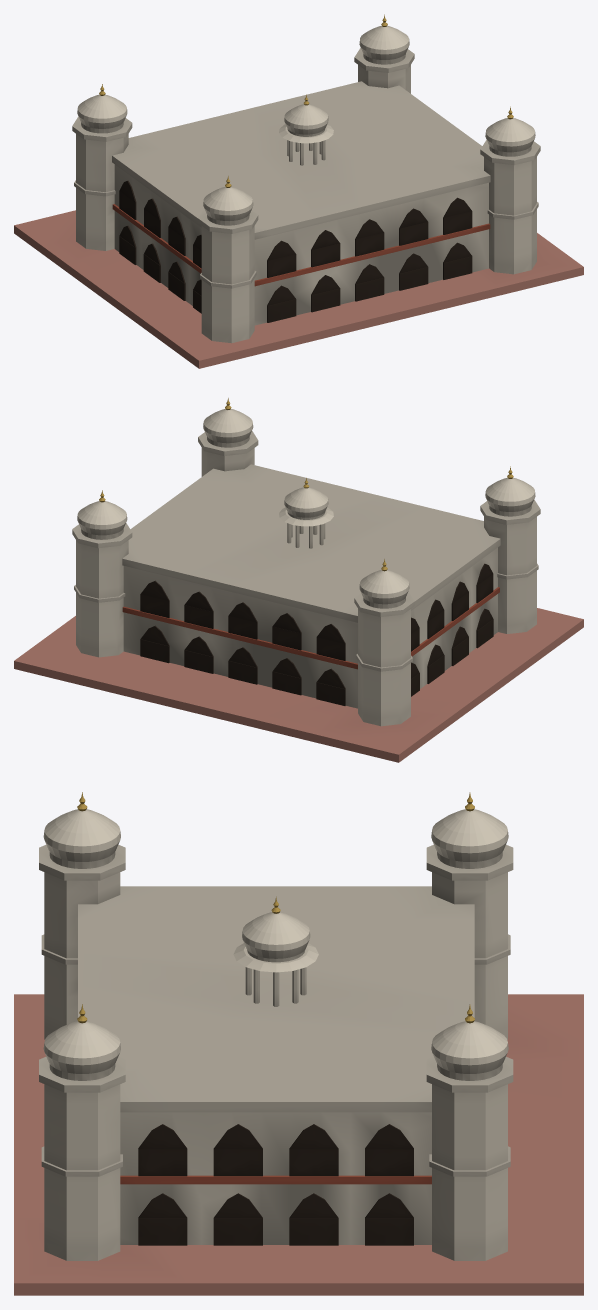
Rendered from mubarak-manzil.glb.
3 views of the same model, one above another, from view 1: azimuth 30°, elevation 25°; view 2: azimuth 150°, elevation 25°; view 3: azimuth 270°, elevation 25° (orthographic). The views are drawn at different scales.
Parts seen in each view (by area): view 1: p0_body, p2_towers, p1_arcades; view 2: p0_body, p2_towers, p1_arcades; view 3: p0_body, p2_towers, p1_arcades.
Part boxes in pixels (left/top/right/bottom): p0_body: left=14, top=81, right=583, bottom=368; p2_towers: left=72, top=14, right=540, bottom=343; p1_arcades: left=119, top=180, right=472, bottom=322; p0_body: left=14, top=464, right=583, bottom=762; p2_towers: left=72, top=398, right=540, bottom=726; p1_arcades: left=140, top=563, right=493, bottom=705; p0_body: left=14, top=886, right=583, bottom=1295; p2_towers: left=39, top=792, right=513, bottom=1260; p1_arcades: left=138, top=1124, right=413, bottom=1245.
Size of the model in its own units: 60 by 24.7 by 50.
